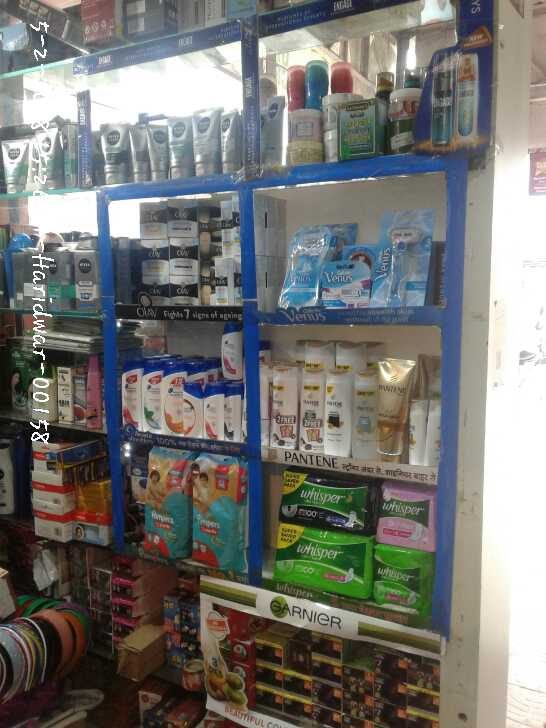venus: (374, 208, 436, 312), (277, 228, 321, 309), (325, 265, 374, 312)
